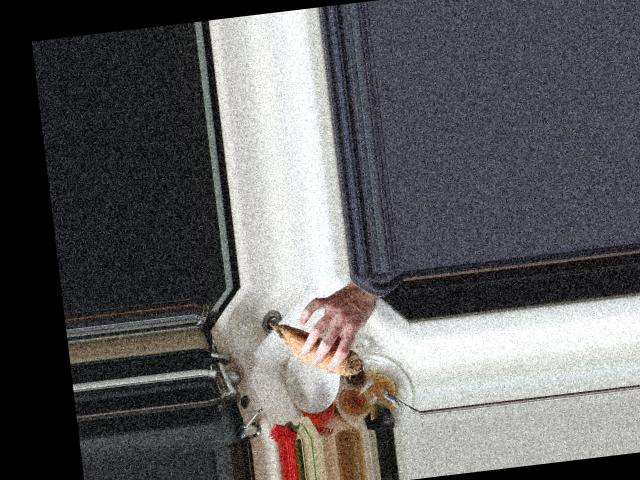sweet_potato: (268, 311, 363, 384)
